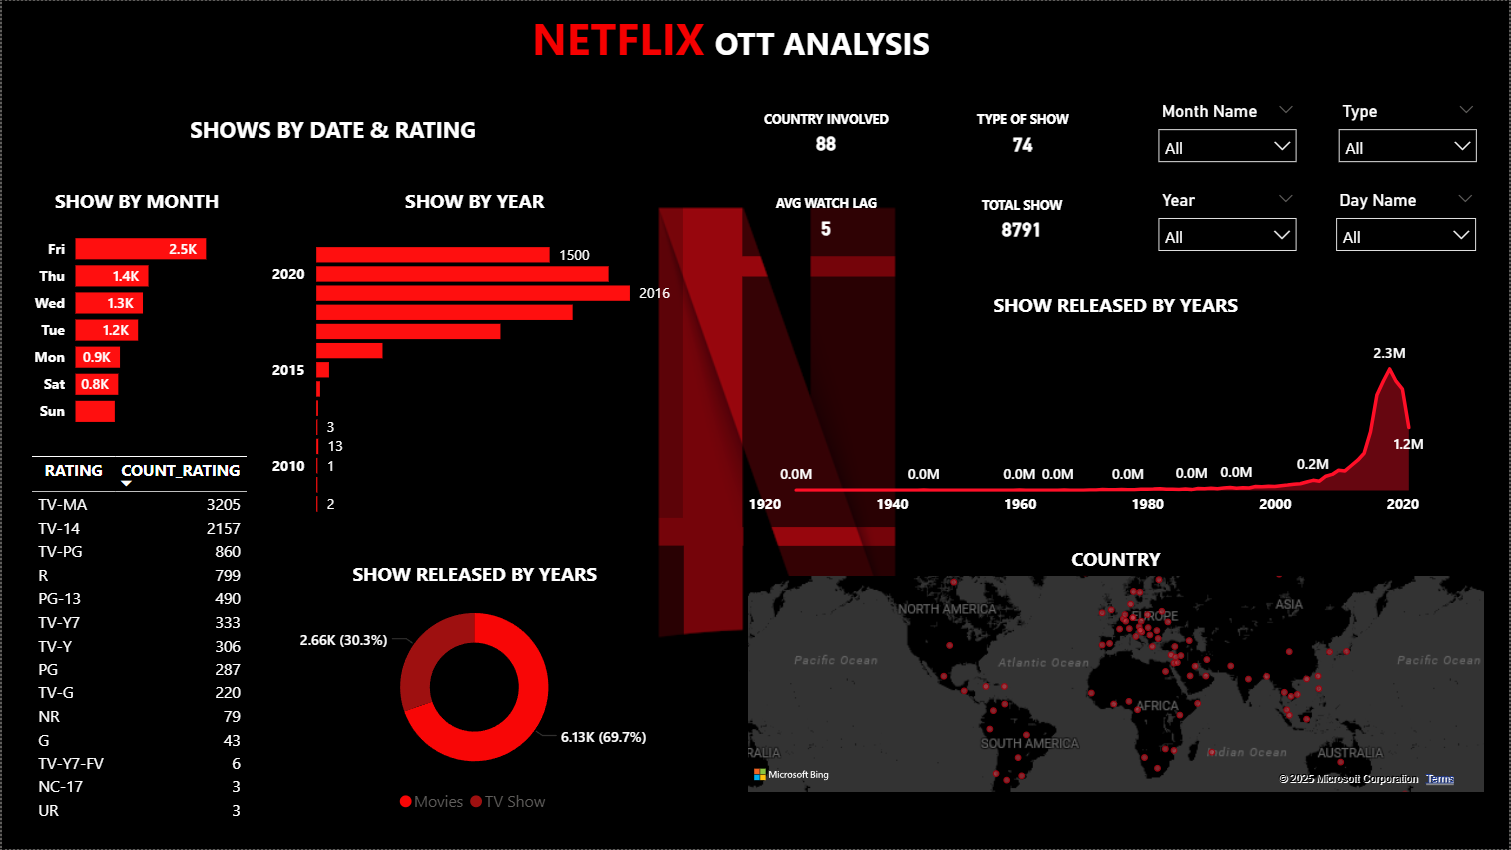

The dashboard page shown, as its layout file describes it:
{"tool":"powerbi","page":{"name":"Page 1","canvas":[1280,720],"ordinal":0},"visuals":[{"type":"textbox","box":[401.3,0,436.3,68.9],"z":0},{"type":"card","title":"TOTAL SHOW","fields":{"Values":["CountNonNull(netflix1.show_id)"]},"box":[798.6,155,136.2,62.5],"z":1000},{"type":"card","title":"AVG WATCH LAG","fields":{"Values":["Avg(netflix1.Year Diff)"]},"box":[628.8,153.4,142.6,63.7],"z":2000},{"type":"card","title":"COUNTRY INVOLVED","fields":{"Values":["netflix1.Total Show"]},"box":[628.8,82.1,142.6,62.7],"z":3000},{"type":"barChart","title":"SHOW BY YEAR","fields":{"Category":["netflix1.Year"],"Y":["CountNonNull(netflix1.show_id)"]},"box":[223.7,145.9,354.4,293.9],"z":5000},{"type":"barChart","title":"SHOW BY MONTH","fields":{"Category":["netflix1.Day Name"],"Y":["CountNonNull(netflix1.show_id)"]},"box":[20.5,145.9,188,226.9],"z":6000},{"type":"textbox","box":[149.8,91.9,267.9,37.2],"z":7000},{"type":"lineChart","title":"SHOW RELEASED BY YEARS","fields":{"Category":["netflix1.release_year"],"Y":["Sum(netflix1.release_year)"]},"box":[628.8,234.5,634.2,212.8],"z":8000},{"type":"donutChart","title":"SHOW RELEASED BY YEARS","fields":{"Category":["netflix1.type"],"Y":["CountNonNull(netflix1.show_id)"]},"box":[223.8,462.2,354.6,236],"z":9000},{"type":"pivotTable","fields":{"Rows":["netflix1.rating"],"Values":["CountNonNull(netflix1.rating)"]},"box":[20.5,381.4,203.1,326.3],"z":10000},{"type":"card","title":"TYPE OF SHOW","fields":{"Values":["netflix2.Toatal Type of show"]},"box":[798.6,82.5,137.5,63.7],"z":11000},{"type":"slicer","fields":{"Values":["netflix1.Month Name"]},"box":[972.3,81.2,137.5,58.7],"z":12000},{"type":"slicer","fields":{"Values":["netflix1.type"]},"box":[1124.8,81.2,137.5,60],"z":13000},{"type":"slicer","fields":{"Values":["netflix1.Day Name"]},"box":[1123.5,156.2,138.7,61.2],"z":14000},{"type":"slicer","fields":{"Values":["netflix1.Year"]},"box":[972.4,156.7,137.2,59.4],"z":15000},{"type":"map","title":"COUNTRY","fields":{"Category":["netflix1.country"]},"box":[628.5,462.2,634.7,214],"z":16001}]}

Visuals, with their boxes in screenshot pixels (x1, y1, x2, y2), scaled from the page's 1280x720 canvas onto the 1511x850 screenshot:
textbox: {"x1": 474, "y1": 0, "x2": 989, "y2": 81}
"TOTAL SHOW" card: {"x1": 943, "y1": 183, "x2": 1104, "y2": 257}
"AVG WATCH LAG" card: {"x1": 742, "y1": 181, "x2": 911, "y2": 256}
"COUNTRY INVOLVED" card: {"x1": 742, "y1": 97, "x2": 911, "y2": 171}
"SHOW BY YEAR" barChart: {"x1": 264, "y1": 172, "x2": 682, "y2": 519}
"SHOW BY MONTH" barChart: {"x1": 24, "y1": 172, "x2": 246, "y2": 440}
textbox: {"x1": 177, "y1": 108, "x2": 493, "y2": 152}
"SHOW RELEASED BY YEARS" lineChart: {"x1": 742, "y1": 277, "x2": 1491, "y2": 528}
"SHOW RELEASED BY YEARS" donutChart: {"x1": 264, "y1": 546, "x2": 683, "y2": 824}
pivotTable - netflix1.rating x CountNonNull(netflix1.rating): {"x1": 24, "y1": 450, "x2": 264, "y2": 835}
"TYPE OF SHOW" card: {"x1": 943, "y1": 97, "x2": 1105, "y2": 173}
slicer - netflix1.Month Name: {"x1": 1148, "y1": 96, "x2": 1310, "y2": 165}
slicer - netflix1.type: {"x1": 1328, "y1": 96, "x2": 1490, "y2": 167}
slicer - netflix1.Day Name: {"x1": 1326, "y1": 184, "x2": 1490, "y2": 257}
slicer - netflix1.Year: {"x1": 1148, "y1": 185, "x2": 1310, "y2": 255}
"COUNTRY" map: {"x1": 742, "y1": 546, "x2": 1491, "y2": 798}
